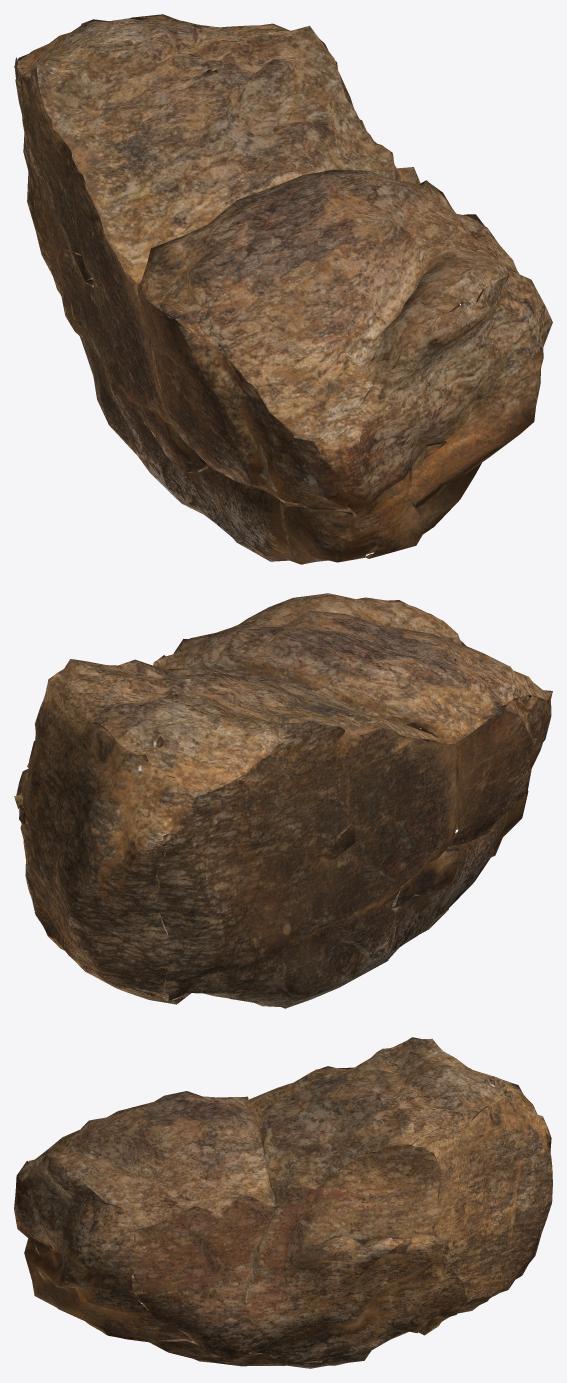
The picture shows the model from 3 angles, top to bottom: view 1: azimuth 30°, elevation 25°; view 2: azimuth 150°, elevation 25°; view 3: azimuth 270°, elevation 25°; orthographic projection. The views are drawn at different scales.
Parts seen in each view (by area): view 1: lod0; view 2: lod0; view 3: lod0.
Part boxes in pixels (x1,y1,x2,y2): lod0: [14, 14, 552, 564]; lod0: [14, 593, 552, 1008]; lod0: [14, 1037, 552, 1368].
Size of what is drawn, in the model's own units: 0.6713 by 0.6494 by 1.21.
Materials: 1 (1 with a texture image).
